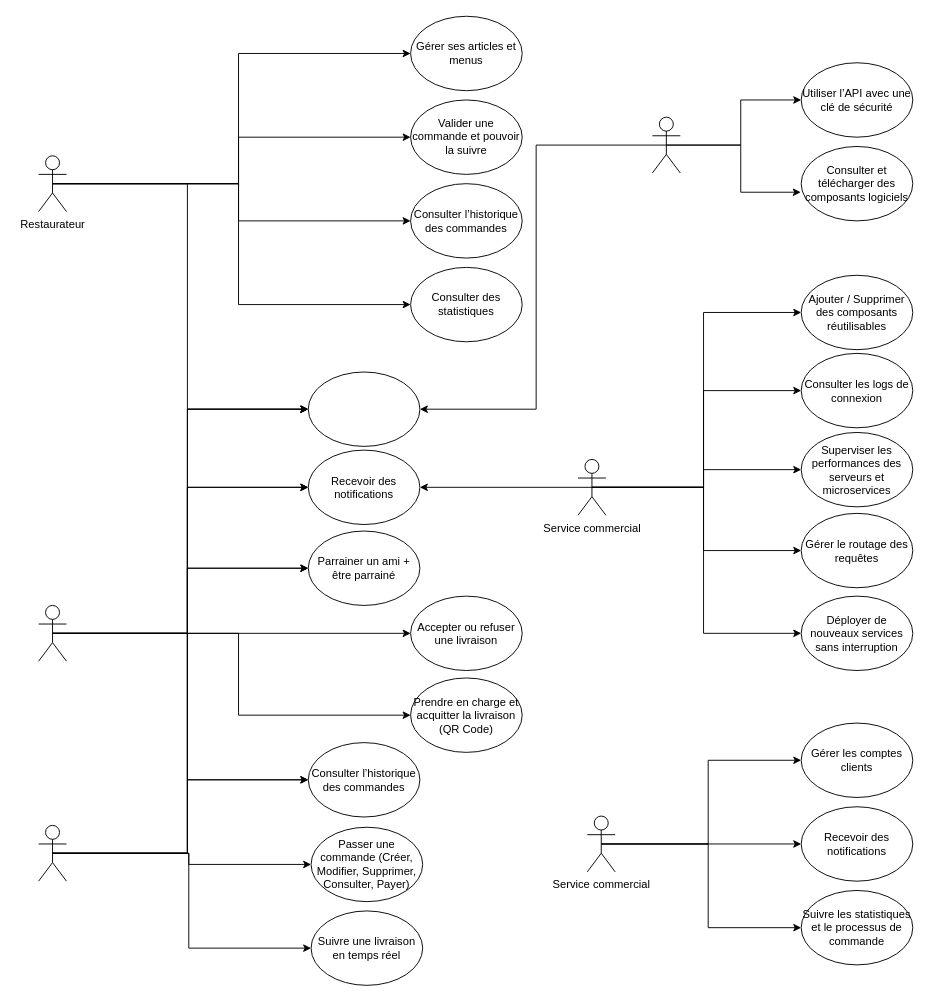
This 929x1002 diagram has some shape labels left out. Each missing label, with the box of its shape:
Créer / Modifier / Supprimer / Consulter son compte: (307, 371, 420, 446)
Développeurs tiers: (651, 116, 680, 173)
Livreur: (38, 604, 66, 661)
Utilisateur final: (38, 824, 66, 881)
